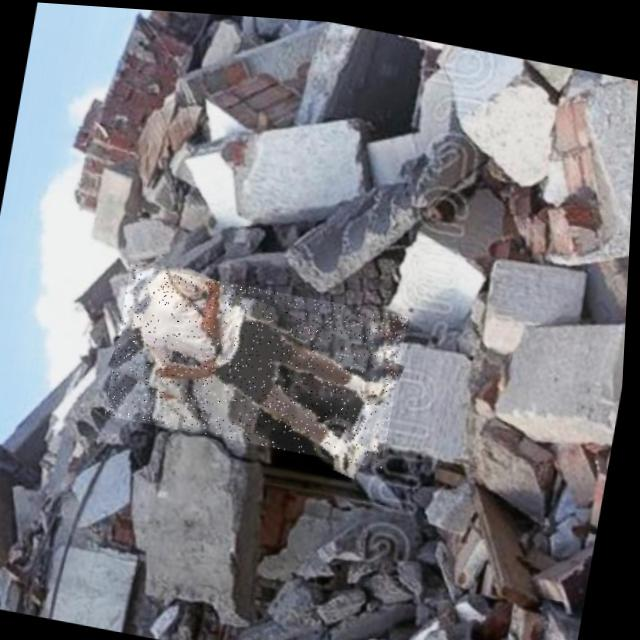Person in Rubble: (107, 260, 413, 462)
